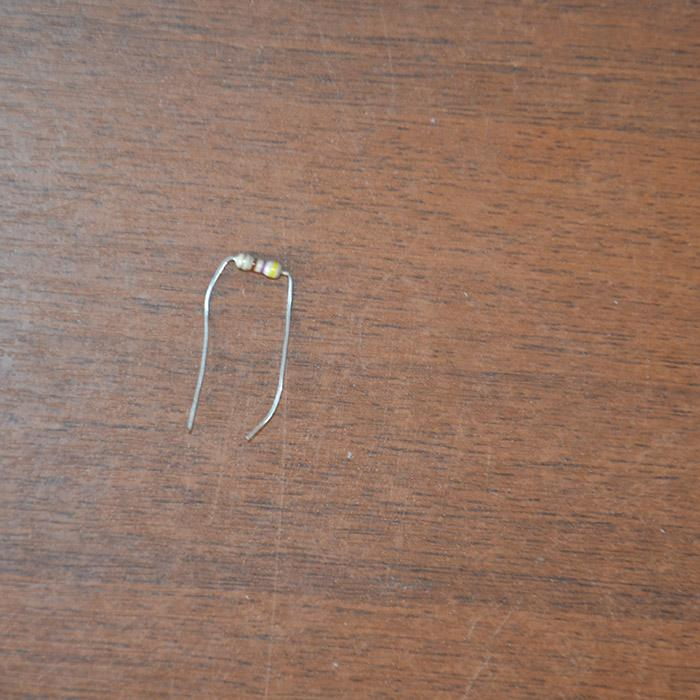resistor: (232, 252, 282, 280)
